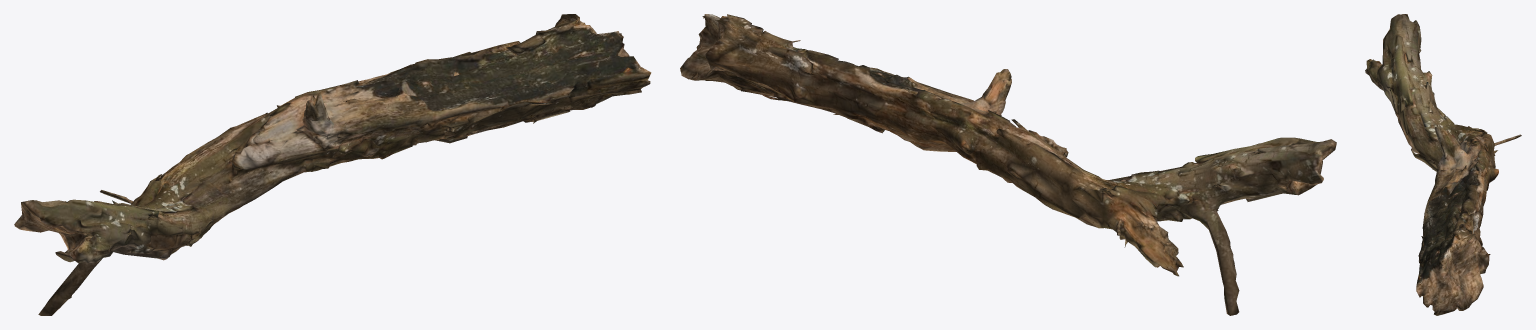
Rendered from dead_log.glb.
The picture shows the model from 3 angles, left to right: view 1: azimuth 30°, elevation 25°; view 2: azimuth 150°, elevation 25°; view 3: azimuth 270°, elevation 25°; orthographic projection. The views are drawn at different scales.
Parts seen in each view (by area): view 1: dead_tree_trunk_02; view 2: dead_tree_trunk_02; view 3: dead_tree_trunk_02.
Part boxes in pixels (x1,y1,x2,y2): dead_tree_trunk_02: (14, 14, 651, 315); dead_tree_trunk_02: (680, 14, 1336, 315); dead_tree_trunk_02: (1365, 14, 1521, 315).
Bounding box in the file's own units: 4.05 × 1.05 × 1.05.
1 material, 1 textured.
